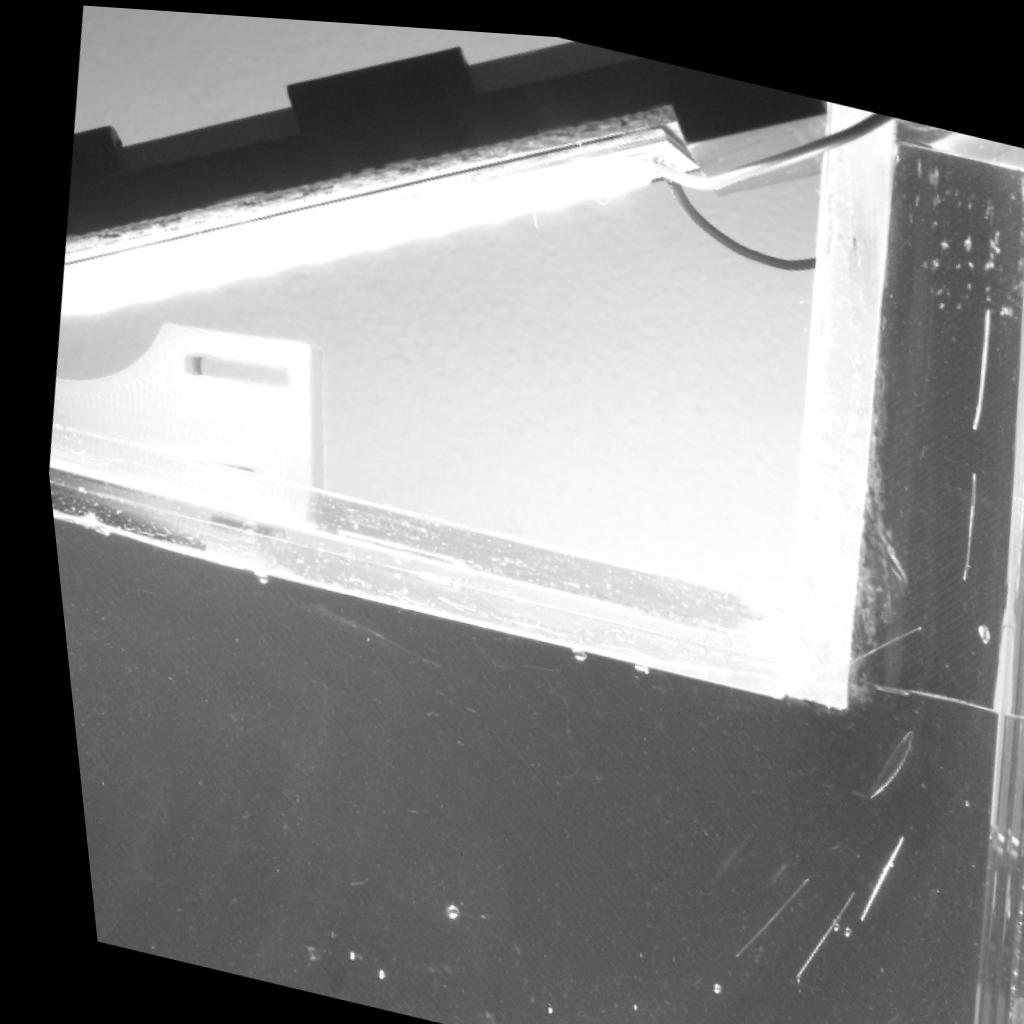Fiber: (708, 865, 795, 956), (767, 873, 845, 972), (835, 822, 890, 911), (838, 612, 912, 659), (960, 294, 986, 415), (945, 456, 971, 569)
